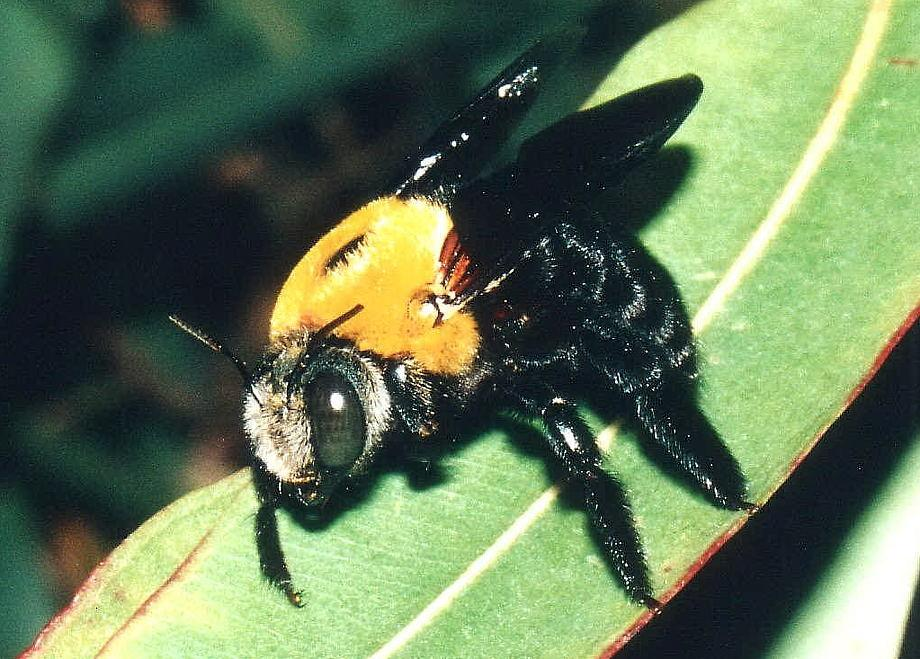Xylocopa: (159, 14, 772, 625)
